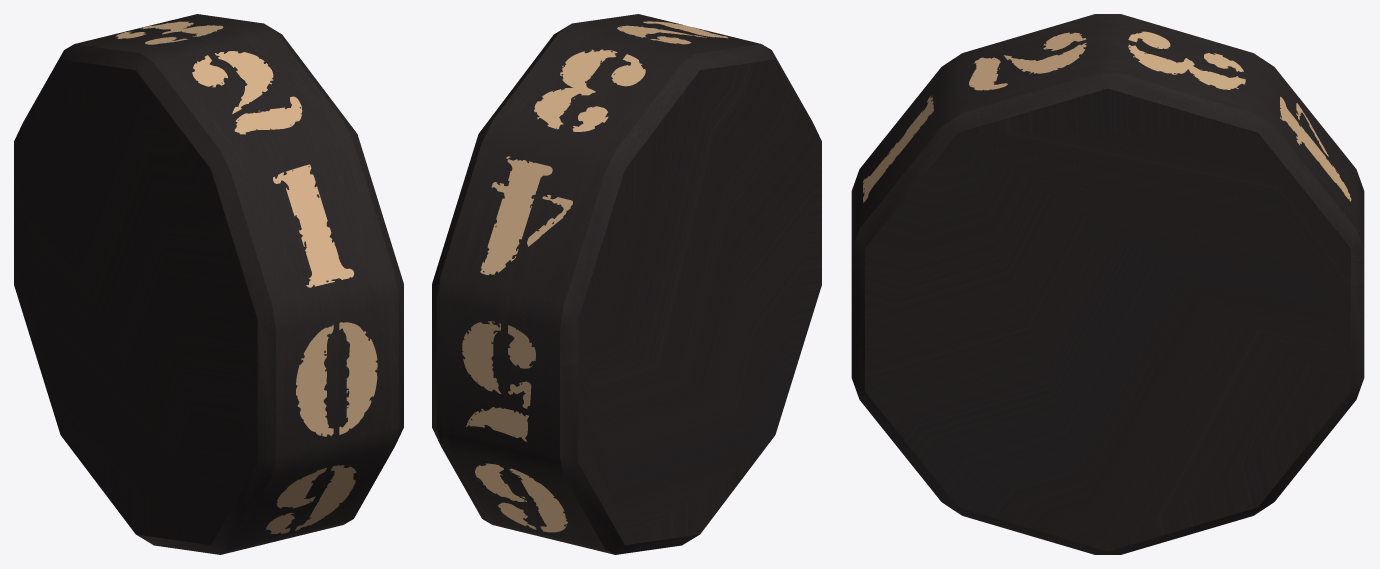
The model's file is NumberWheel.glb.
The picture shows the model from 3 angles, left to right: view 1: azimuth 30°, elevation 25°; view 2: azimuth 150°, elevation 25°; view 3: azimuth 270°, elevation 25°; orthographic projection.
Parts seen in each view (by area): view 1: NumberWheel; view 2: NumberWheel; view 3: NumberWheel.
Boxes of the visible parts, <box> form: NumberWheel: <box>14,14,403,554</box>; NumberWheel: <box>432,14,821,554</box>; NumberWheel: <box>851,14,1364,554</box>.
Bounding box in the file's own units: 0.125 × 0.3938 × 0.3824.
Materials: 2 (1 with a texture image).
